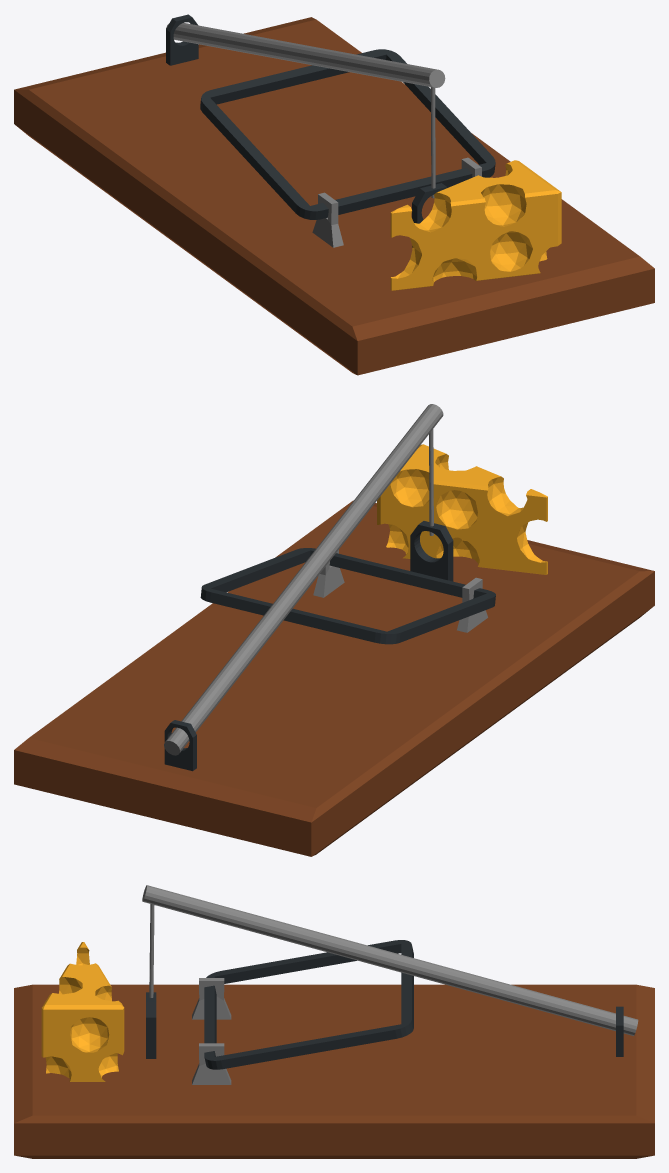
The model's file is MouseTrap.fbx.
The picture shows the model from 3 angles, top to bottom: view 1: azimuth 30°, elevation 25°; view 2: azimuth 150°, elevation 25°; view 3: azimuth 270°, elevation 25°; orthographic projection. The views are drawn at different scales.
Visible parts, largest first — view 1: Cube; view 2: Cube; view 3: Cube.
Boxes of the visible parts, x1,y1,x2,y2 form: Cube: (14,14,654,375); Cube: (14,404,654,856); Cube: (14,885,654,1158).
Bounding box in the file's own units: 78.74 × 56.41 × 158.
